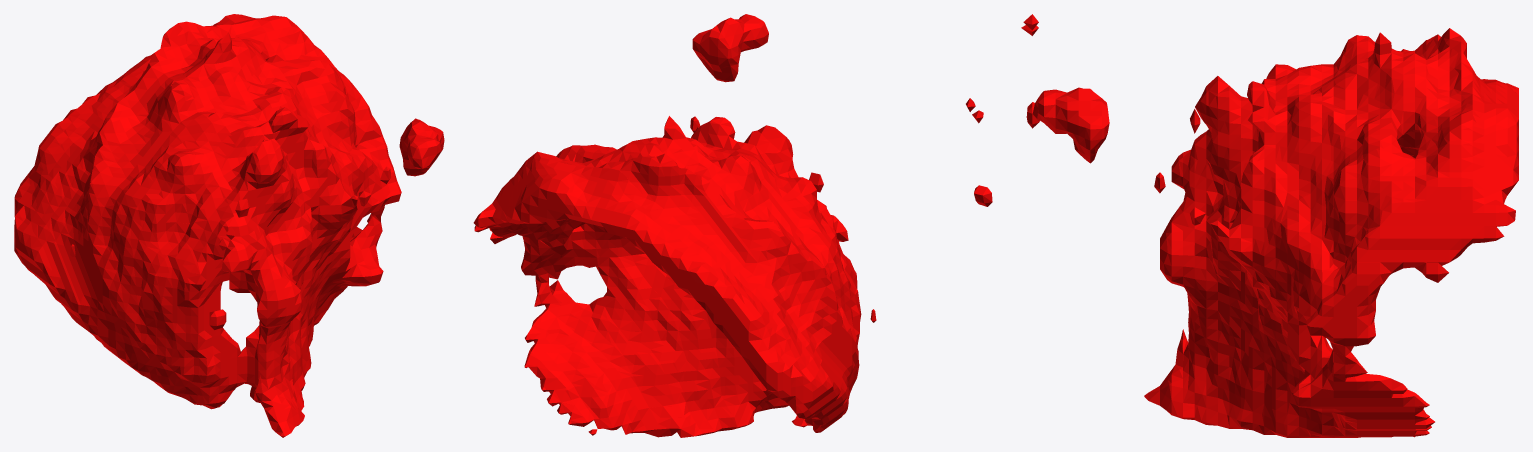
The model's file is B939XXXX-1_valve_17.obj.
The picture shows the model from 3 angles, left to right: view 1: azimuth 30°, elevation 25°; view 2: azimuth 150°, elevation 25°; view 3: azimuth 270°, elevation 25°; orthographic projection. The views are drawn at different scales.
Visible parts, largest first — view 1: 17_valve; view 2: 17_valve; view 3: 17_valve.
Boxes of the visible parts, <box> form: 17_valve: <box>14,14,444,437</box>; 17_valve: <box>473,14,992,437</box>; 17_valve: <box>1021,14,1518,437</box>.
Bounding box in the file's own units: 77.65 × 74.96 × 85.95.
